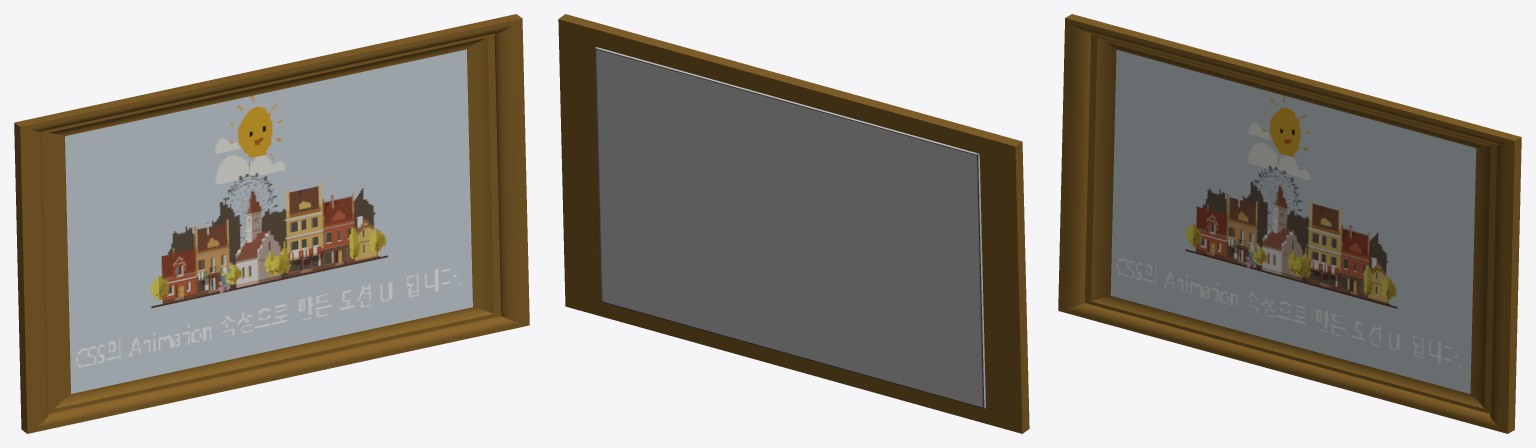
Rendered from anime.glb.
3 renders of one model, left to right at view 1: azimuth 30°, elevation 25°; view 2: azimuth 150°, elevation 25°; view 3: azimuth 330°, elevation 25°, orthographic. The views are drawn at different scales.
Visible parts, largest first — view 1: 큐브, node_id7; view 2: 큐브, node_id7; view 3: 큐브, node_id7.
Part boxes in pixels (box(x1,y1,x2,y2)): 큐브: box(65, 49, 472, 393); node_id7: box(14, 14, 529, 433); 큐브: box(594, 47, 985, 408); node_id7: box(558, 14, 1029, 433); 큐브: box(1110, 50, 1476, 393); node_id7: box(1058, 14, 1521, 433).
Size of the model in its own units: 2.31 by 1.37 by 0.2423.
2 materials, 1 textured.
